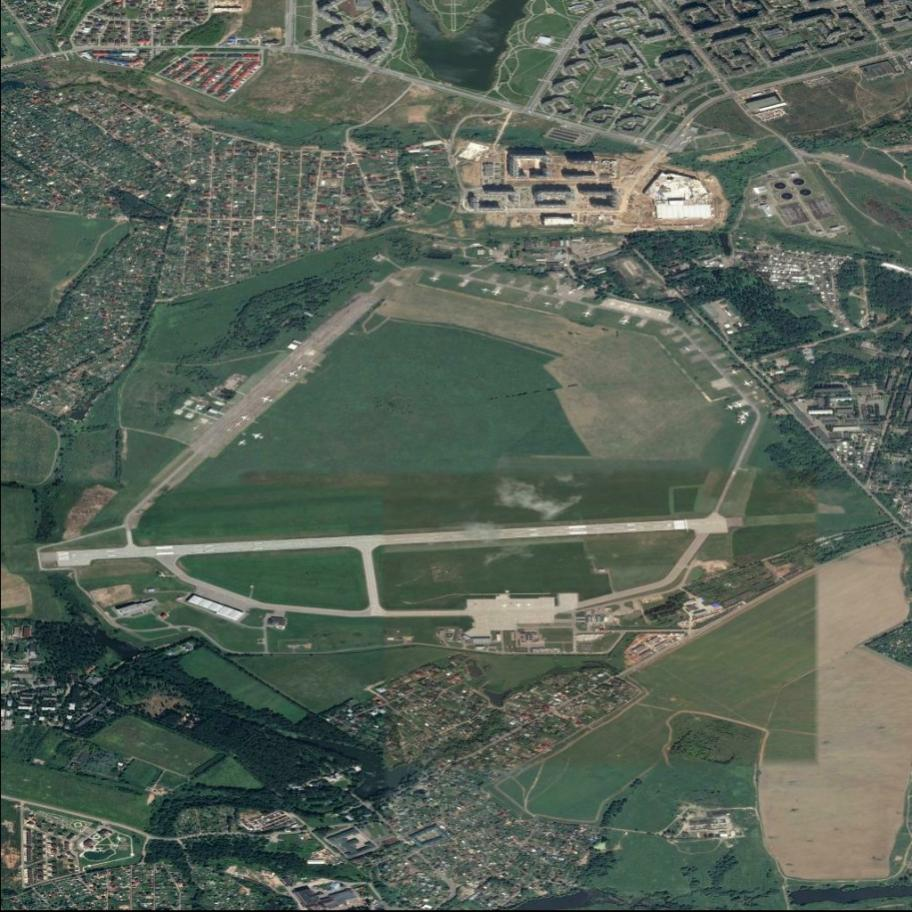plane: (257, 391, 274, 406), (250, 428, 266, 442), (234, 436, 248, 449), (489, 286, 504, 298), (727, 366, 742, 378), (618, 314, 631, 327), (237, 412, 252, 423), (740, 378, 755, 389), (579, 308, 593, 319), (480, 285, 491, 295), (542, 299, 553, 309)
storage-tank: (775, 181, 786, 191), (782, 192, 794, 200), (793, 178, 805, 186), (800, 189, 811, 196)
